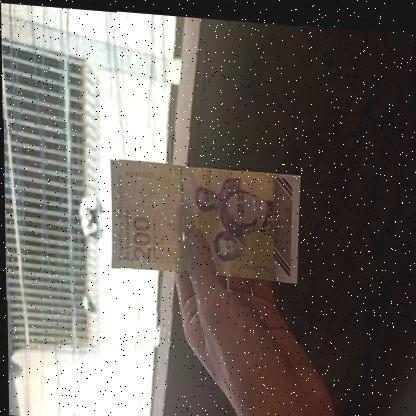two_hundred-front-vef: (109, 155, 301, 279)
